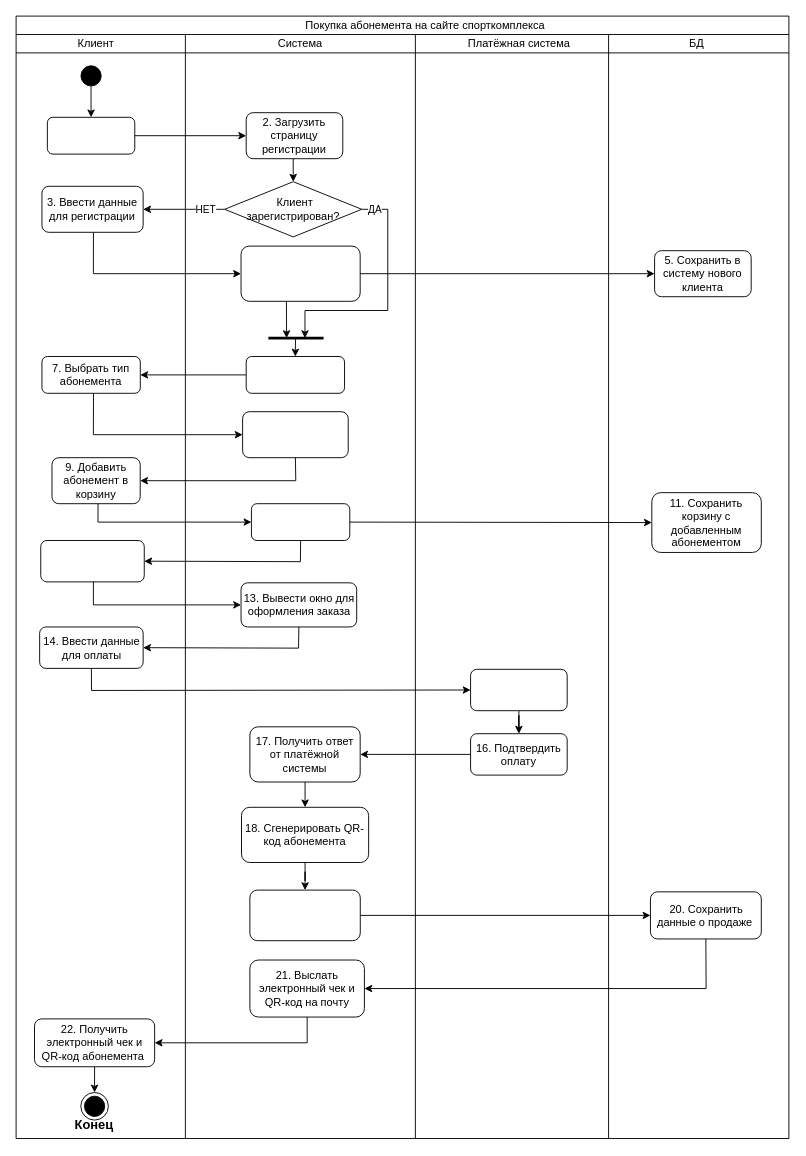
Image size: 806x1156. Some labels were removed from this diagram. Here are the shapes that lost their labels. From the top down, the centre of each, then its label:
At pixel 90 135: "1. Открыть сайт".
At pixel 300 273: "4. Передать данные клиента в БД".
At pixel 295 374: "6. Загрузить главную страницу".
At pixel 295 434: "8. Отобразить выбранный абонемент с ценой".
At pixel 300 521: "10.Сохранить корзину в БД".
At pixel 92 561: "12. Перейти к оформлению заказа".
At pixel 518 689: "15. Обработать платежа".
At pixel 304 915: "19. Активировать абонемент для клиента".
